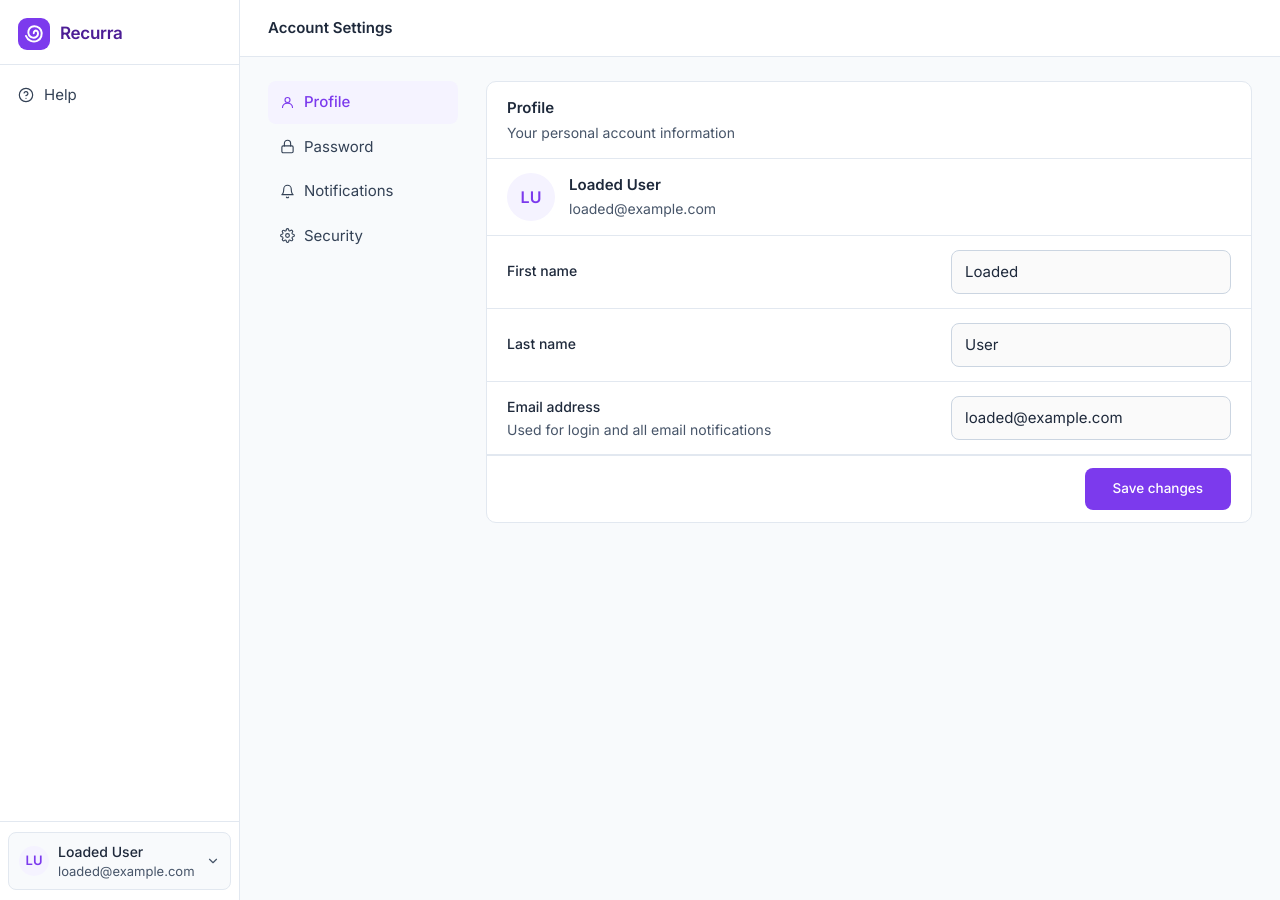
Scenario: AccountSettingsView › loads authenticated settings on mount
Click the element with class "settings-nav-item" showing "Notifications" at (337, 190), box [280,181,394,200]
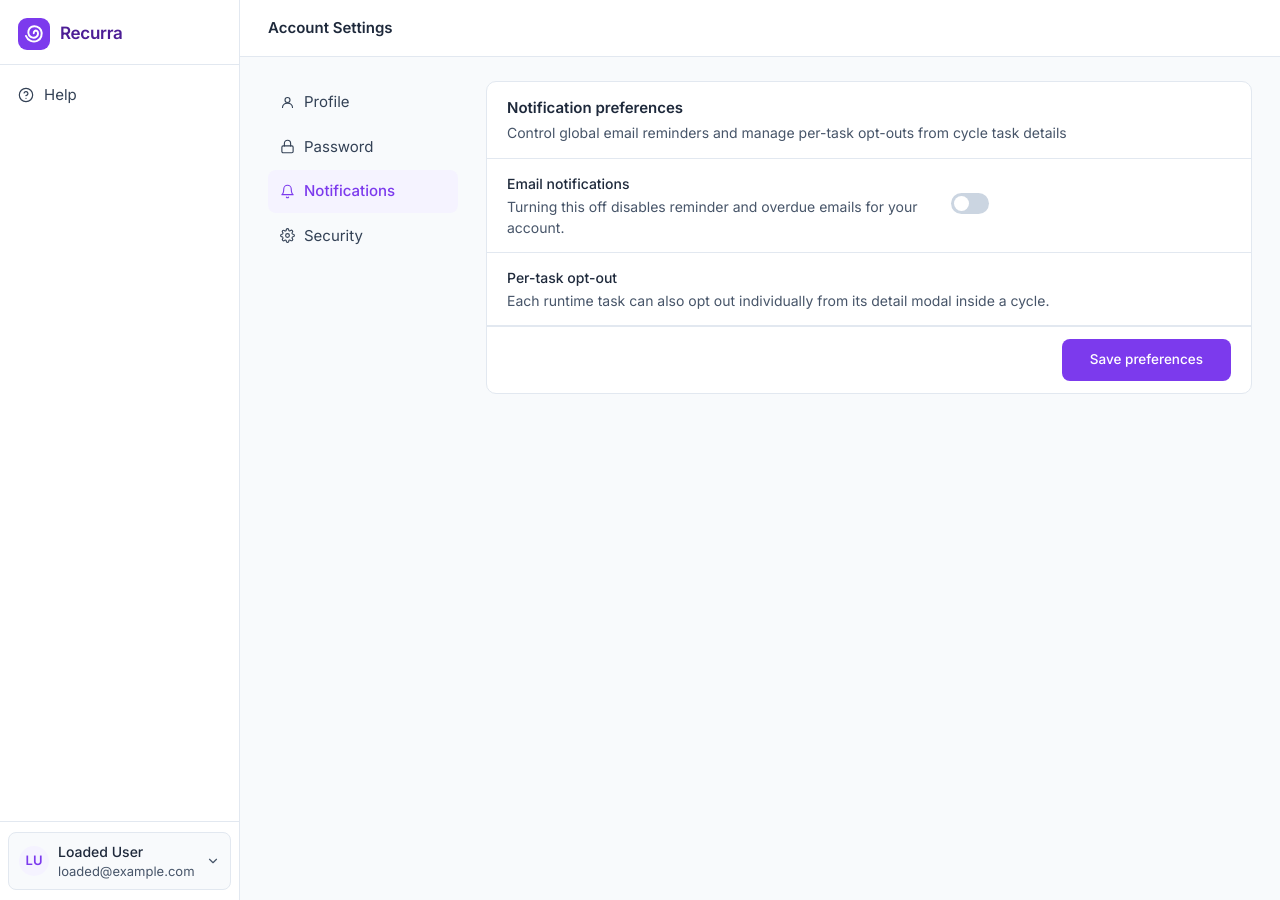
Expected: the text "loaded@example.com" is shown, [58,862,197,881]
Expected: the checkbox is not checked, [951,193,989,214]
